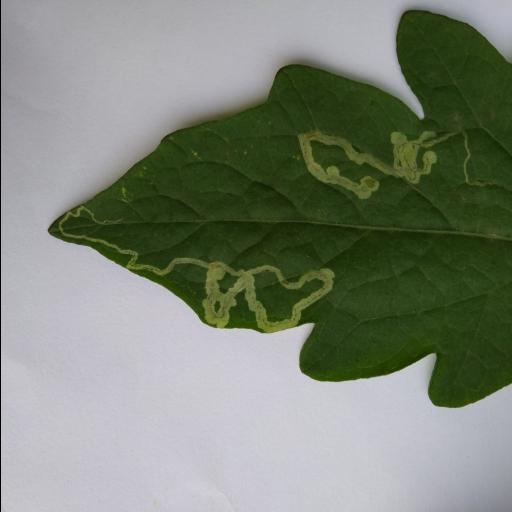Leaf Miner: (40, 10, 512, 408)
